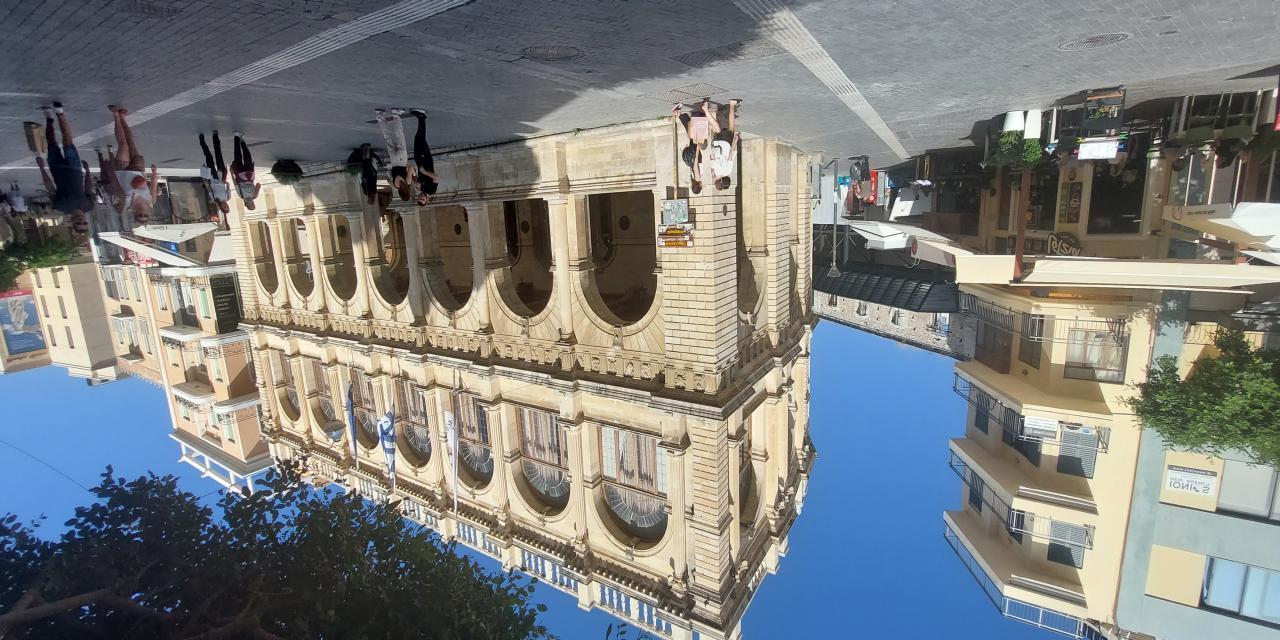Loggia: (218, 118, 824, 640)
